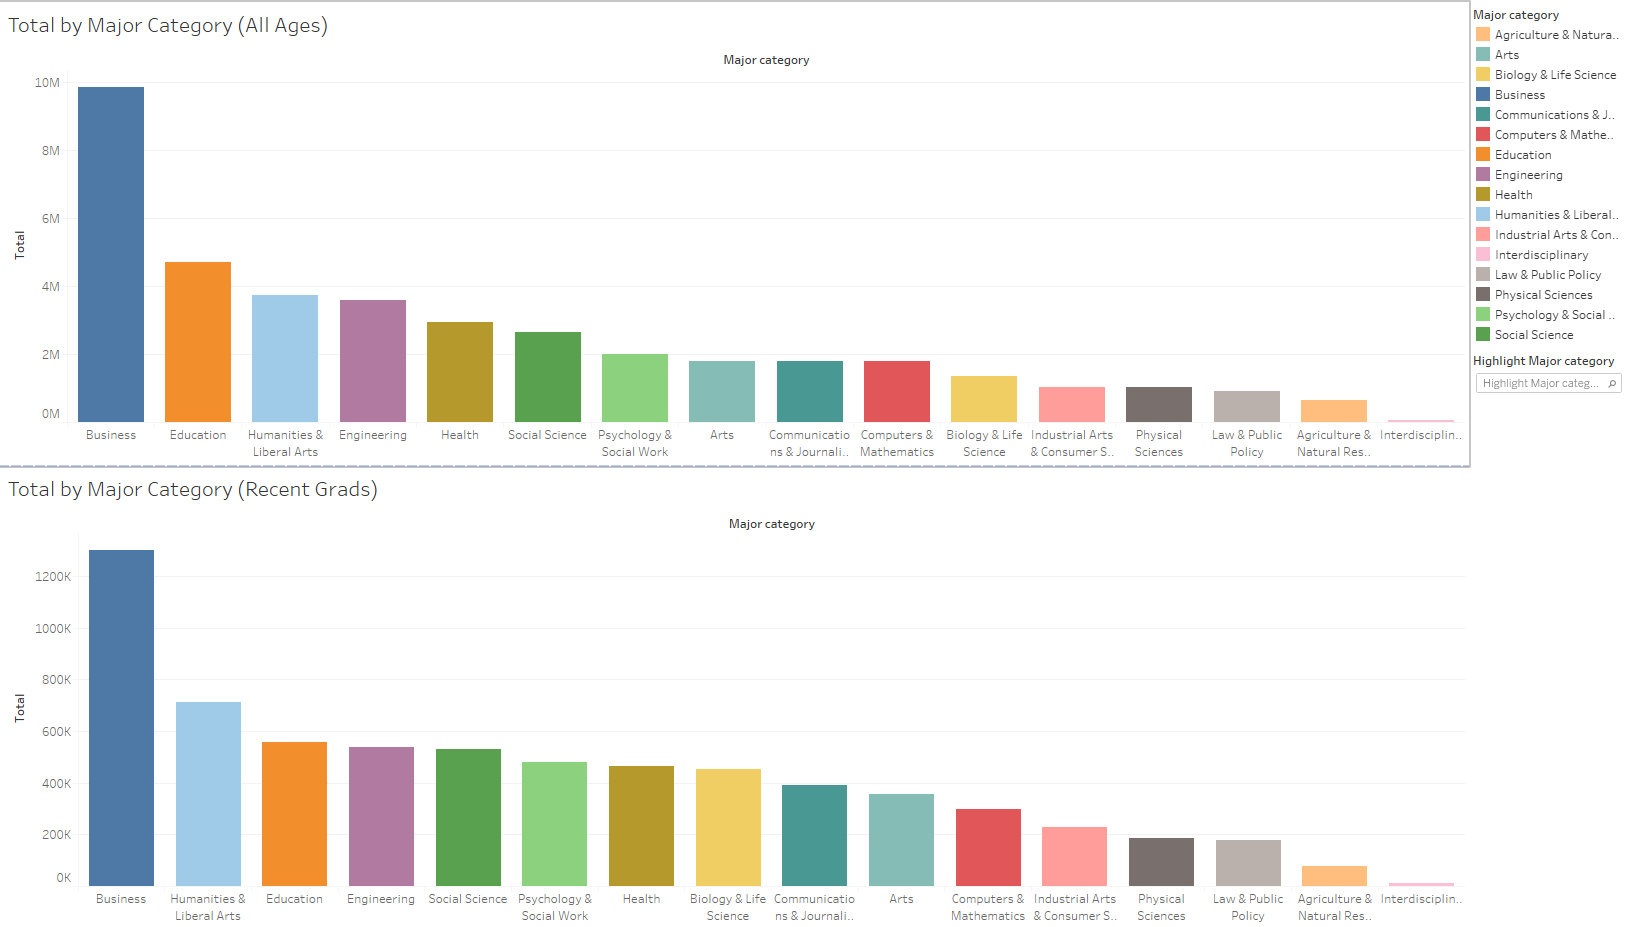

What the dashboard file says about the page in this screenshot:
{"tool":"tableau","page":{"name":"DB1","canvas":[1000,1000],"units":"permille","ordinal":0},"visuals":[{"type":"worksheet","title":"TotalBar1","mark":"Automatic","rows":["Total"],"cols":["Major_category"],"box":[4.9,8.5,893,491.5]},{"type":"legend","title":"TotalBar1","param":"[federated.1q5ycf40tl7pp21941vf40f0e6t9].[none:Major_category:nk]","box":[897.9,8.5,97.3,366.5]},{"type":"highlighter","title":"TotalBar1","param":"[federated.1q5ycf40tl7pp21941vf40f0e6t9].[none:Major_category:nk]","box":[897.9,375,97.3,55.1]},{"type":"worksheet","title":"TotalBar2","mark":"Automatic","rows":["Total"],"cols":["Major_category"],"box":[4.9,500,893,491.5]}]}

Visuals, with their boxes on the dashboard's canvas, which has no fixed pixel size, in thousandths of its width and height (x1, y1, x2, y2). These are canvas units, not pixel positions in the 1627x927 screenshot, which may show the page scaled, cropped or inside an application window:
"TotalBar1" worksheet: (5,8,898,500)
"TotalBar1" legend: (898,8,995,375)
"TotalBar1" highlighter: (898,375,995,430)
"TotalBar2" worksheet: (5,500,898,992)
